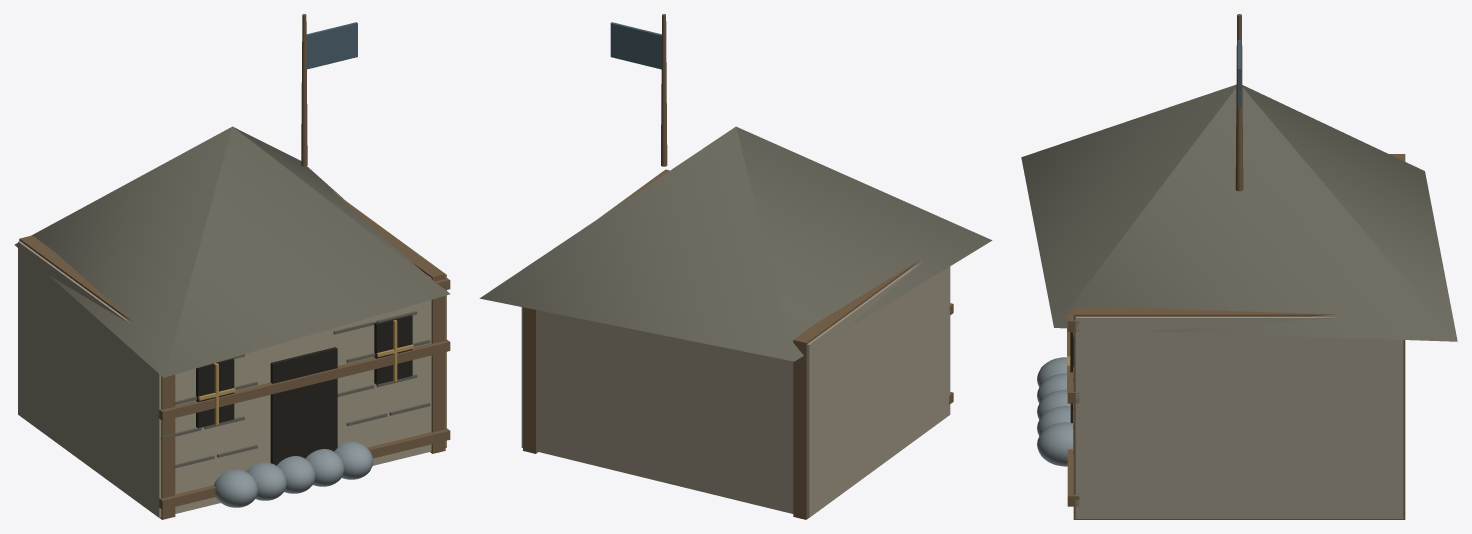
The model's file is b-mine-english.glb.
3 renders of one model, left to right at view 1: azimuth 30°, elevation 25°; view 2: azimuth 150°, elevation 25°; view 3: azimuth 270°, elevation 25°, orthographic. The views are drawn at different scales.
Visible parts, largest first — view 1: Structure; view 2: Structure; view 3: Structure.
Boxes of the visible parts, bbox=[...] form: Structure: bbox=[14, 14, 450, 519]; Structure: bbox=[479, 14, 992, 519]; Structure: bbox=[1021, 14, 1457, 519].
Size of the model in its own units: 4.53 by 5.33 by 4.53.
